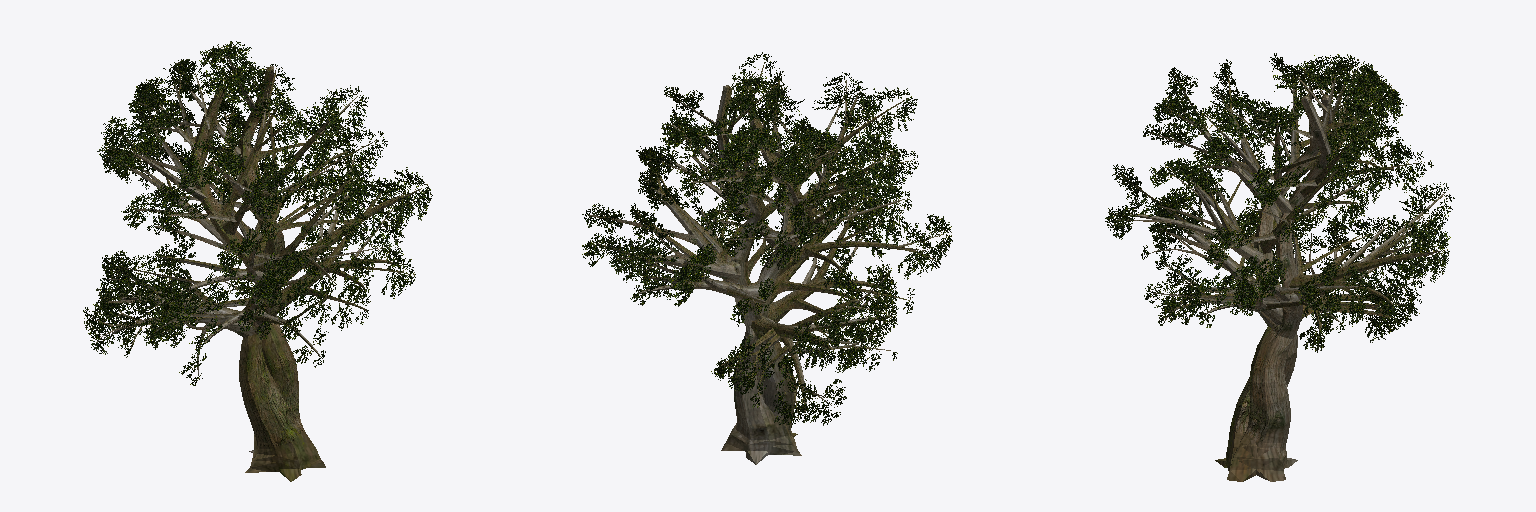
3 renders of one model, left to right at view 1: azimuth 30°, elevation 25°; view 2: azimuth 150°, elevation 25°; view 3: azimuth 270°, elevation 25°, orthographic.
Visible parts, largest first — view 1: Tree2; view 2: Tree2; view 3: Tree2.
Boxes of the visible parts, x1,y1,x2,y2 form: Tree2: [83, 41, 432, 481]; Tree2: [582, 52, 952, 464]; Tree2: [1105, 53, 1454, 481].
Bounding box in the file's own units: 4.7 × 5.92 × 4.67.
2 materials, 2 textured.